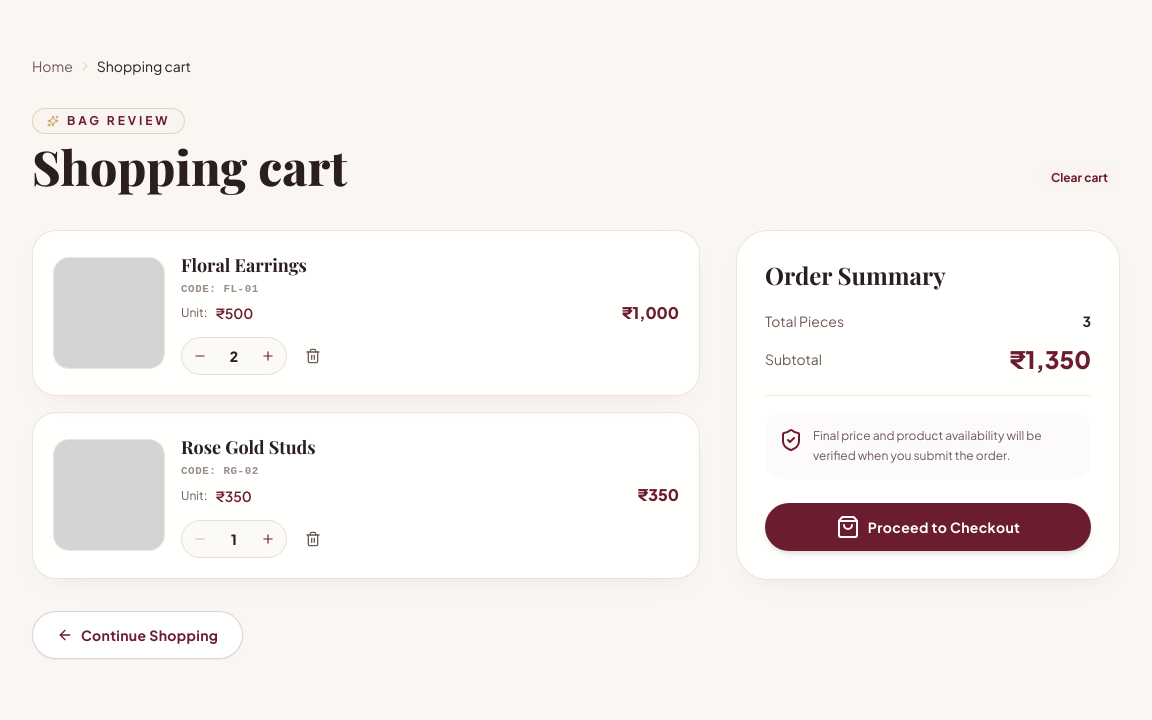
Test: CartPage › removes an item when the trash button is clicked
Expected: the link "Floral Earrings" is shown, [181,253,307,277]
Click the button named "Remove Rose Gold Studs from cart".
click(313, 539)  # box [295,521,331,557]
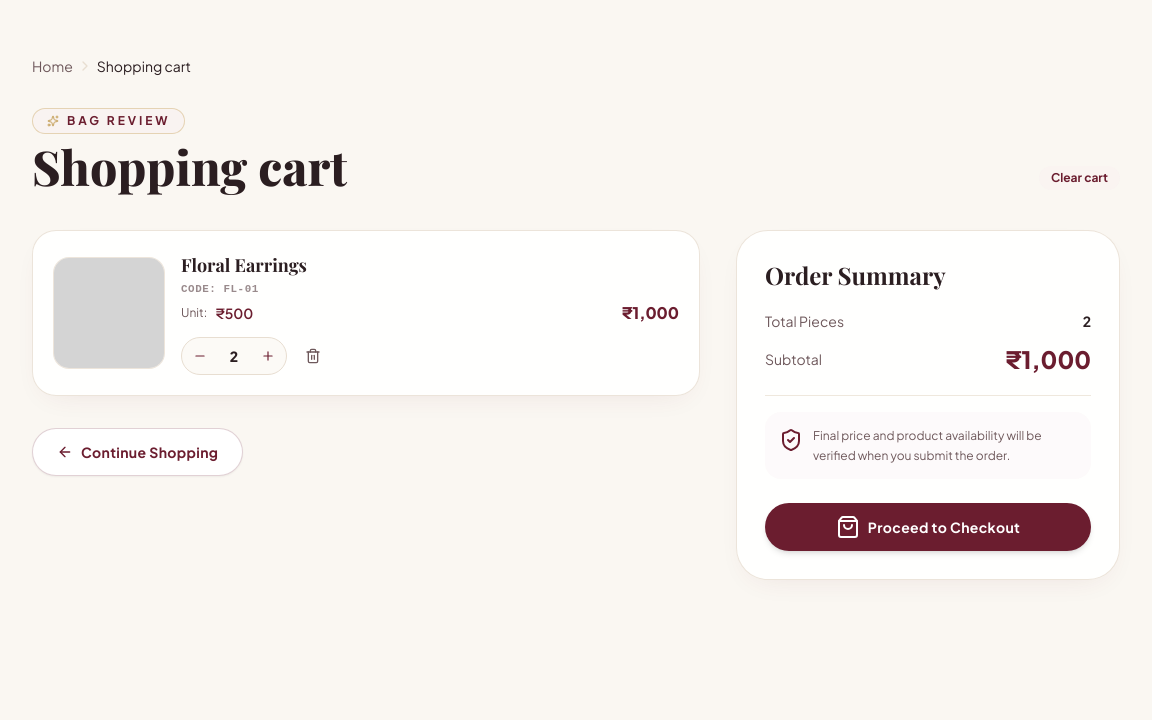
Expected: the link "Rose Gold Studs" is gone
